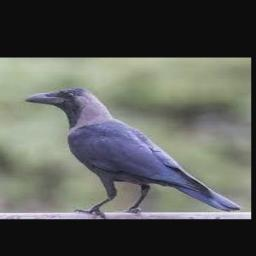Crow: (27, 87, 243, 217)
